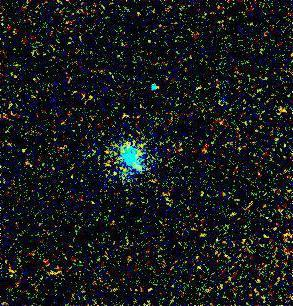star: (99, 159, 129, 189)
